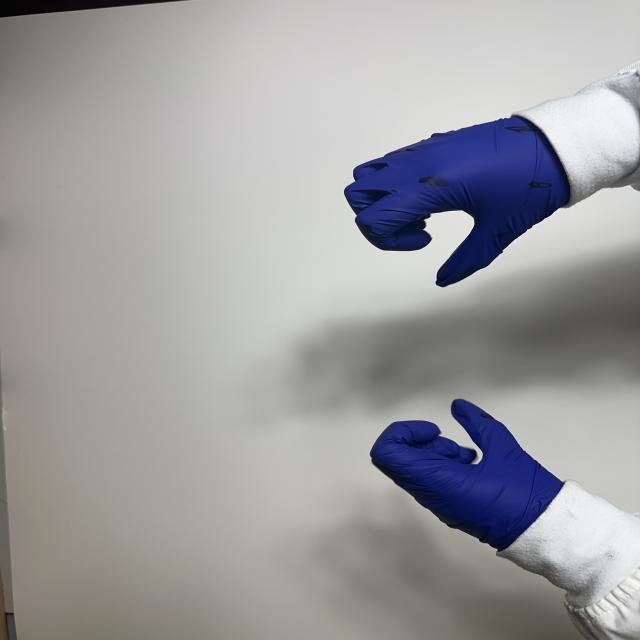gloves_contaminated: (345, 118, 569, 286), (371, 400, 562, 551)
